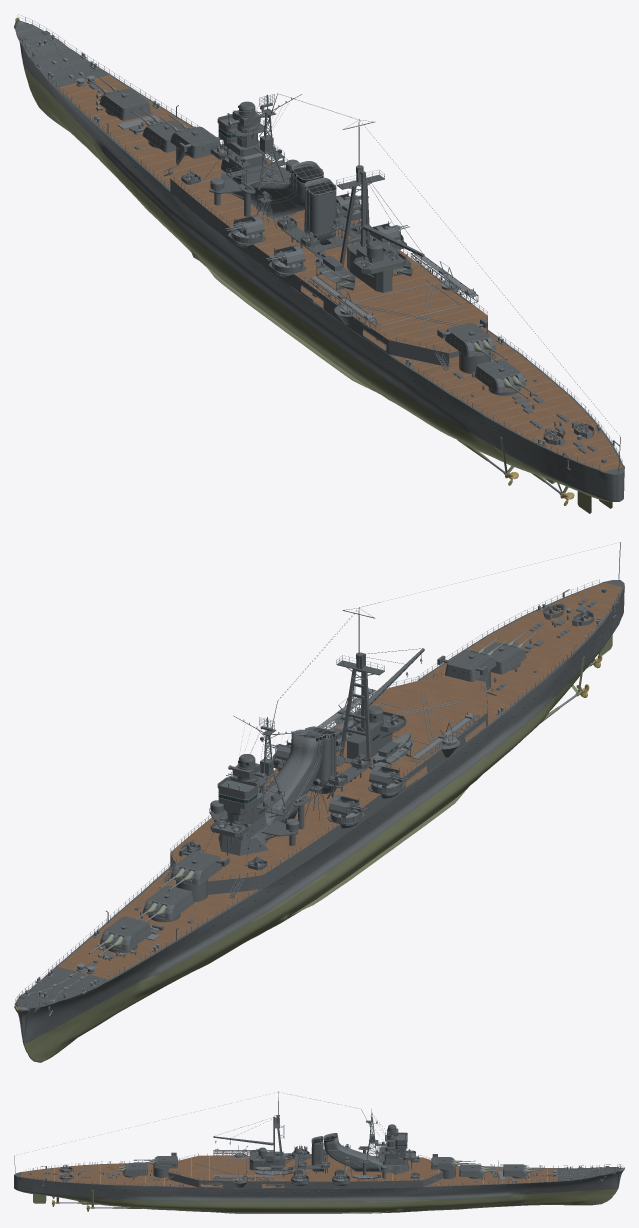
Rendered from mogami.glb.
The picture shows the model from 3 angles, top to bottom: view 1: azimuth 30°, elevation 25°; view 2: azimuth 150°, elevation 25°; view 3: azimuth 270°, elevation 25°; orthographic projection. The views are drawn at different scales.
Parts seen in each view (by area): view 1: Blueprint lofted hull, deck.mesh, central-deck-aft.mesh, central-deck-forward.mesh, deck-fittings.mesh, forward-funnel.mesh, mast-aft.mesh, bridge-fittings.mesh, after-funnel.mesh, central-bay-port.mesh, mast-fore.mesh, main-4.yaw.mesh (+12 smaller); view 2: Blueprint lofted hull, deck.mesh, central-deck-forward.mesh, central-deck-aft.mesh, deck-fittings.mesh, forward-funnel.mesh, mast-aft.mesh, bridge-fittings.mesh, main-3.yaw.mesh, main-4.yaw.mesh, mast-fore.mesh, main-1.yaw.mesh (+8 smaller); view 3: Blueprint lofted hull, deck.mesh, central-deck-forward.mesh, central-deck-aft.mesh, deck-fittings.mesh, forward-funnel.mesh, central-bay-starboard.mesh, bridge-fittings.mesh, mast-aft.mesh, catapult--1.mesh, propulsion.mesh, after-funnel.mesh (+13 smaller).
Boxes of the visible parts, box(x1,y1,x2,y2) form: Blueprint lofted hull: box(14, 19, 624, 501); deck.mesh: box(14, 14, 624, 474); central-deck-aft.mesh: box(293, 249, 487, 358); central-deck-forward.mesh: box(164, 153, 492, 368); deck-fittings.mesh: box(15, 17, 619, 471); forward-funnel.mesh: box(249, 161, 323, 218); mast-aft.mesh: box(336, 119, 424, 266); bridge-fittings.mesh: box(209, 113, 299, 205); after-funnel.mesh: box(304, 177, 336, 245); central-bay-port.mesh: box(291, 277, 449, 366); mast-fore.mesh: box(206, 93, 619, 435); main-4.yaw.mesh: box(437, 319, 496, 357); Blueprint lofted hull: box(14, 588, 624, 1062); deck.mesh: box(15, 580, 624, 1008); central-deck-forward.mesh: box(164, 670, 492, 897); central-deck-aft.mesh: box(330, 674, 487, 780); deck-fittings.mesh: box(15, 588, 619, 1016); forward-funnel.mesh: box(263, 729, 323, 826); mast-aft.mesh: box(336, 607, 424, 759); bridge-fittings.mesh: box(209, 777, 309, 849); main-3.yaw.mesh: box(170, 847, 229, 885); main-4.yaw.mesh: box(437, 650, 496, 681); mast-fore.mesh: box(208, 602, 379, 860); main-1.yaw.mesh: box(100, 916, 151, 950); Blueprint lofted hull: box(14, 1167, 624, 1213); deck.mesh: box(14, 1160, 621, 1188); central-deck-forward.mesh: box(171, 1153, 443, 1188); central-deck-aft.mesh: box(168, 1155, 294, 1183); deck-fittings.mesh: box(29, 1151, 624, 1192); forward-funnel.mesh: box(323, 1133, 382, 1171); central-bay-starboard.mesh: box(168, 1172, 294, 1188); bridge-fittings.mesh: box(358, 1132, 407, 1178); mast-aft.mesh: box(213, 1091, 284, 1165); catapult--1.mesh: box(213, 1171, 273, 1187); propulsion.mesh: box(33, 1190, 142, 1211); after-funnel.mesh: box(311, 1136, 324, 1171).
Size of the model in its own units: 27.09 by 41.2 by 201.
Materials: 12 (6 with a texture image).
